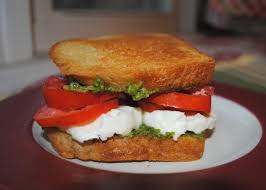sandwich: (13, 22, 255, 172)
